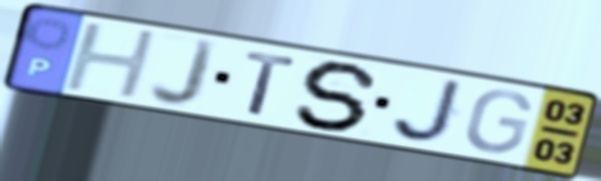G: (462, 88, 536, 156)
H: (60, 21, 163, 102)
J: (146, 36, 222, 110), (388, 77, 469, 146)
S: (291, 59, 384, 133)
T: (242, 48, 302, 119)
